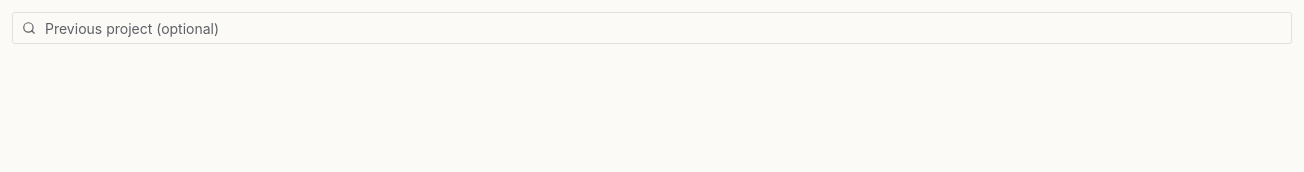
ProjectLinkPicker › shows an empty message when no projects match
Type "zz" into the field labelled "Previous project".
click(652, 28); type("zz")  # box [12,12,1292,44]
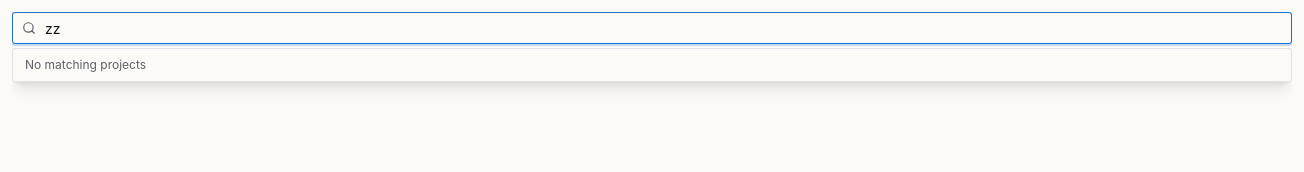
Check: the text "No matching projects" is shown, box [25,57,146,72]
